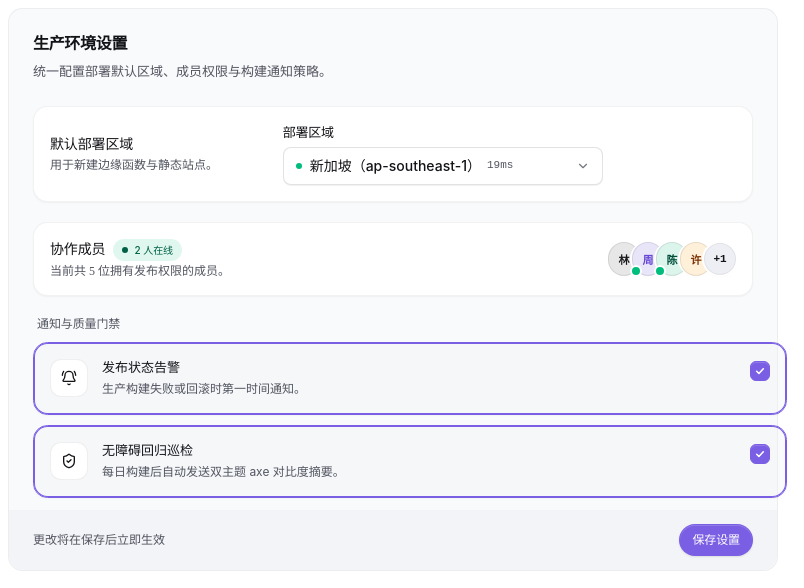
Test: SettingsBlock › 支持 sectioned 变体与一键重置未保存更改
The width and height of the screenshot is (804, 588).
Check: the text "生产环境设置" is shown, box [33,33,127,53]
Click the checkbox named "无障碍回归巡检" in the row of "无障碍回归巡检". click: point(760, 454)
box: [750,444,770,464]
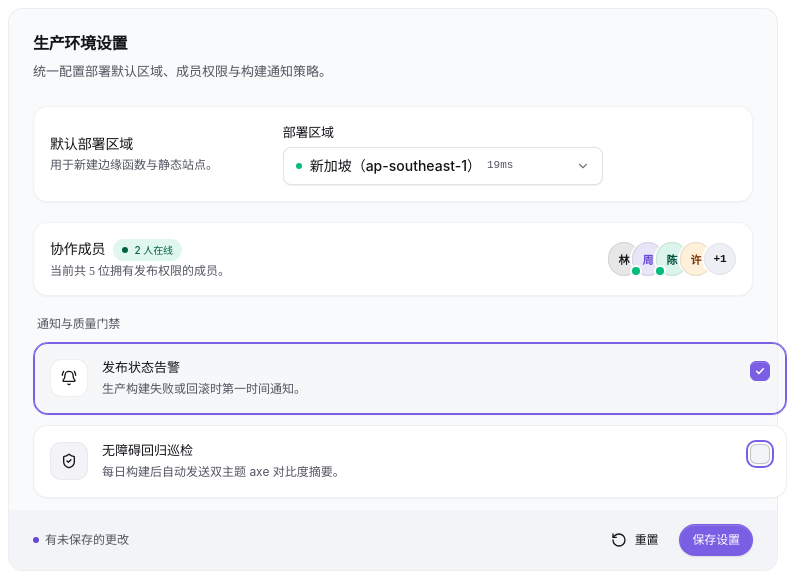
Check: the button "重置" is shown
Click the button "重置". click: point(635, 540)
box: [598,524,672,556]
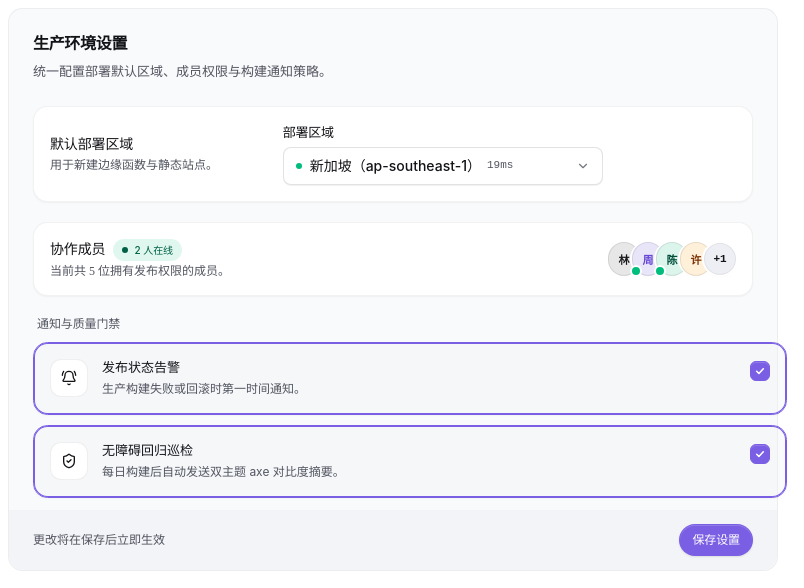
Check: the text "有未保存的更改" is gone
